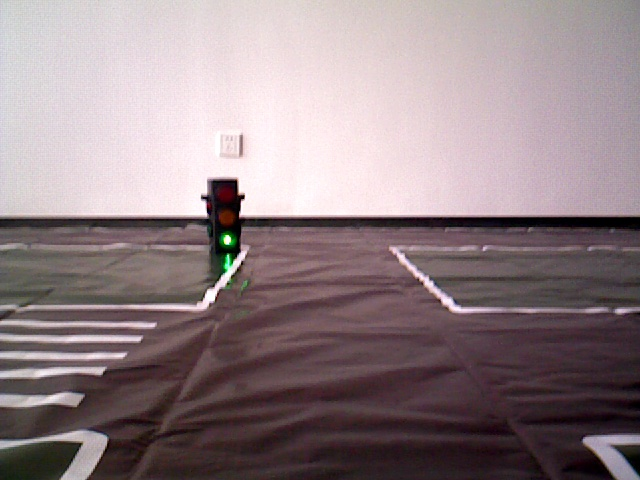green: (204, 184, 239, 251)
